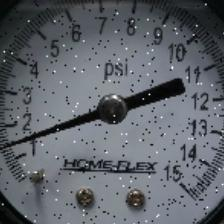gauge: (10, 10, 214, 214)
